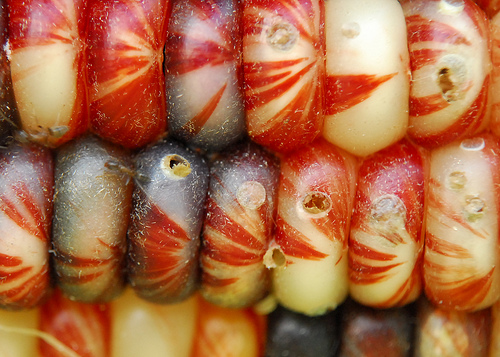corn: (0, 0, 496, 356)
